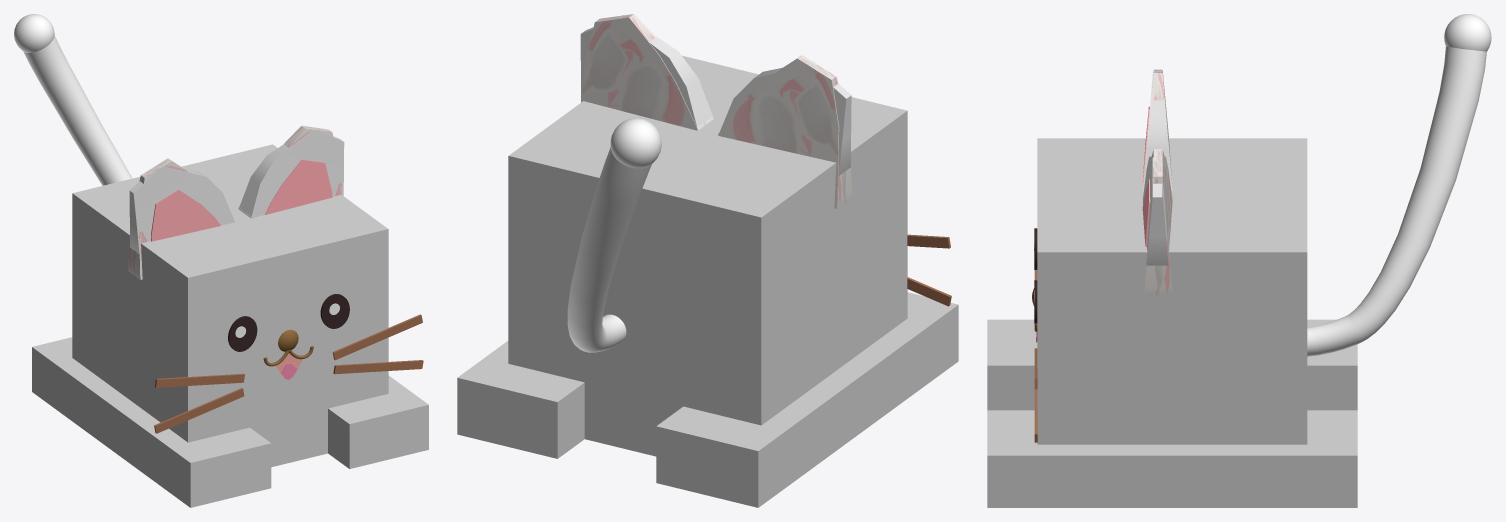
The model's file is cat.fbx.
The picture shows the model from 3 angles, left to right: view 1: azimuth 30°, elevation 25°; view 2: azimuth 150°, elevation 25°; view 3: azimuth 270°, elevation 25°; orthographic projection. The views are drawn at different scales.
Parts seen in each view (by area): view 1: body, cube_4, tail, cube_3, cube, cube_1, 圆柱_2, cube_2, ball; view 2: body, cube_2, tail, cube_4, ball, cube; view 3: body, tail, cube_4, cube_2, ball.
Part boxes in pixels (x1,y1,x2,y2): body: [32, 144, 428, 507]; cube_4: [129, 127, 344, 253]; tail: [23, 35, 132, 185]; cube_3: [151, 159, 332, 241]; cube: [154, 360, 423, 433]; cube_1: [154, 314, 422, 387]; 圆柱_2: [228, 294, 349, 351]; cube_2: [128, 125, 342, 279]; ball: [14, 14, 54, 52]; body: [457, 55, 958, 507]; cube_2: [581, 14, 852, 209]; tail: [567, 147, 651, 352]; cube_4: [580, 15, 851, 175]; ball: [610, 118, 661, 168]; cube: [907, 277, 951, 306]; body: [987, 138, 1357, 507]; tail: [1307, 46, 1486, 356]; cube_4: [1143, 71, 1172, 265]; cube_2: [1143, 69, 1172, 294]; ball: [1444, 14, 1491, 51].
Bounding box in the file's own units: 53.57 × 62.82 × 74.69.
10 materials, 1 textured.
